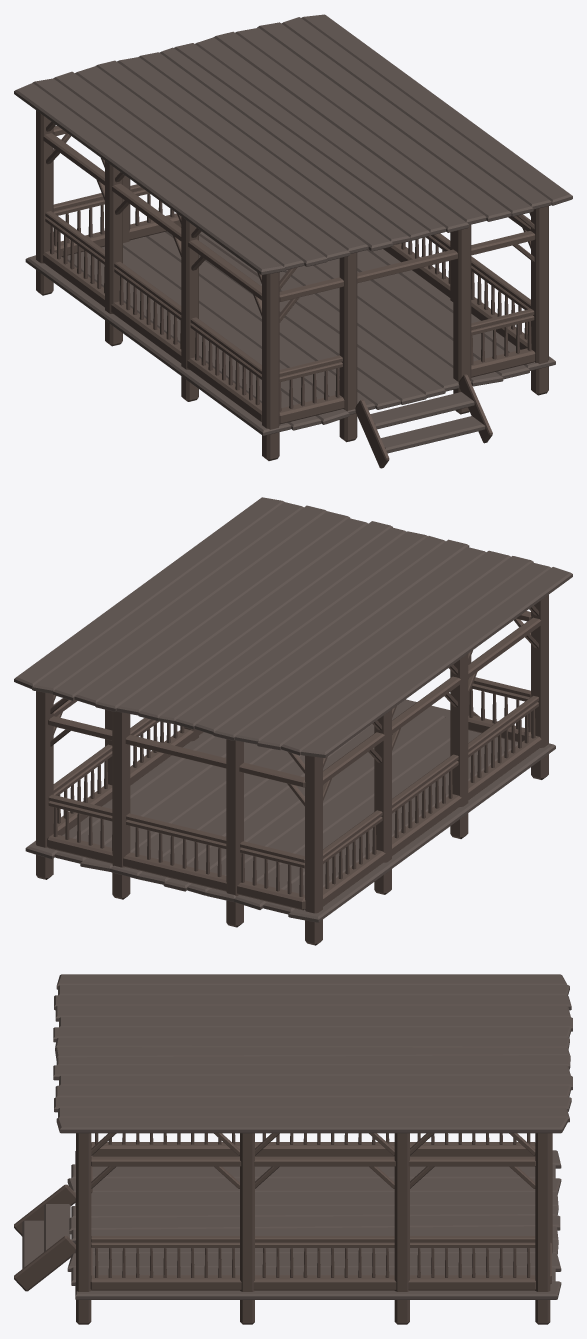
Rendered from farmstractures_01.glb.
3 renders of one model, top to bottom at view 1: azimuth 30°, elevation 25°; view 2: azimuth 150°, elevation 25°; view 3: azimuth 270°, elevation 25°, orthographic.
Visible parts, largest first — view 1: farmstractures_01; view 2: farmstractures_01; view 3: farmstractures_01.
Part boxes in pixels (box(x1,y1,x2,y2)): farmstractures_01: box(14, 14, 572, 468); farmstractures_01: box(14, 497, 572, 945); farmstractures_01: box(14, 974, 572, 1324).
Bounding box in the file's own units: 5.27 × 3.41 × 8.07.
1 material, 1 textured.
